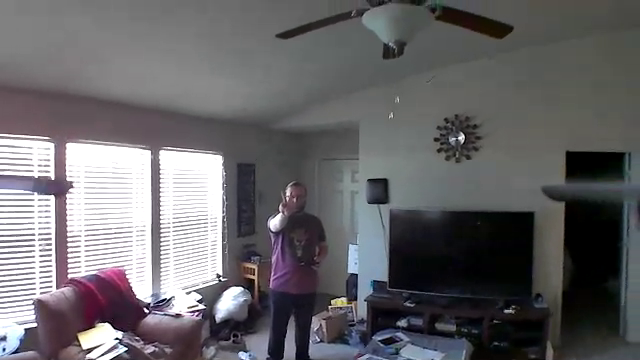peace: (276, 186, 297, 219)
